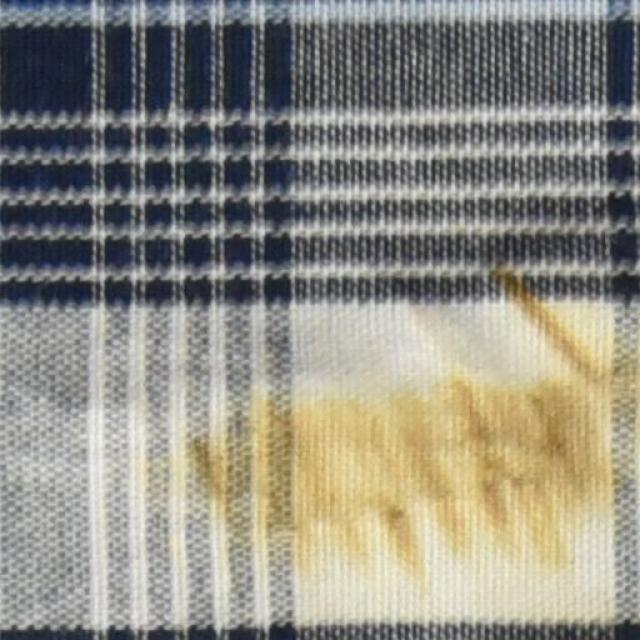Stain: (200, 261, 637, 568)
